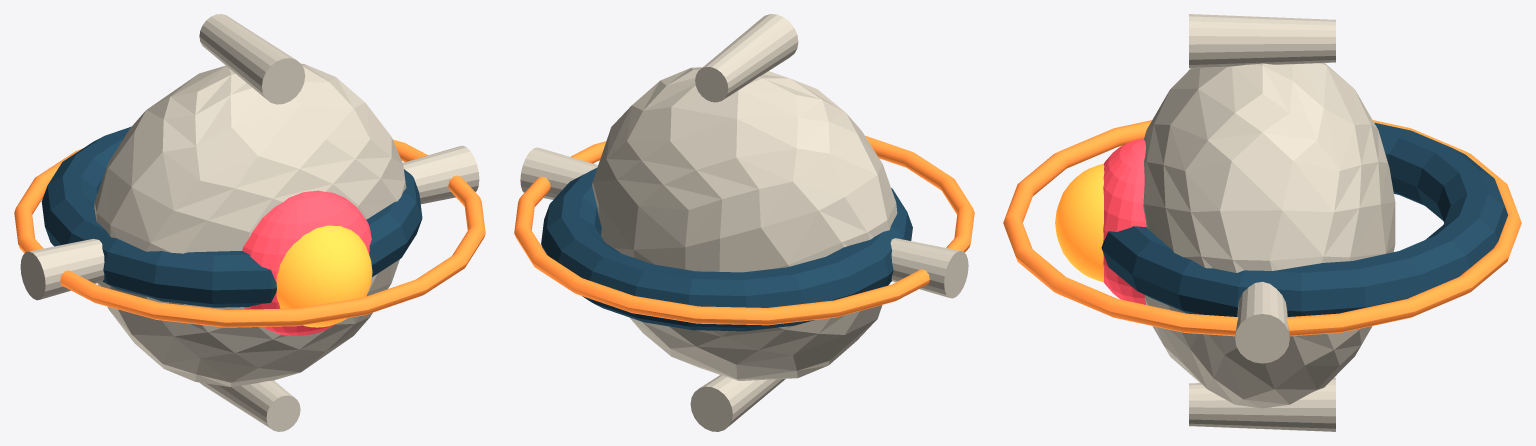
The model's file is enemy-foundry.glb.
3 views of the same model, side by side, from view 1: azimuth 30°, elevation 25°; view 2: azimuth 150°, elevation 25°; view 3: azimuth 270°, elevation 25° (orthographic). The views are drawn at different scales.
Visible parts, largest first — view 1: hull_static, accent_static, aim_ring, target_eye, hazard_static; view 2: hull_static, accent_static, aim_ring; view 3: hull_static, accent_static, aim_ring, target_eye, hazard_static.
Part boxes in pixels (<box>): hull_static: <box>20,14,479,431</box>; accent_static: <box>41,126,422,307</box>; aim_ring: <box>14,139,485,327</box>; target_eye: <box>276,225,372,327</box>; hazard_static: <box>242,190,371,335</box>; hull_static: <box>520,14,968,431</box>; accent_static: <box>541,167,912,331</box>; aim_ring: <box>514,135,974,325</box>; hull_static: <box>1143,14,1395,431</box>; accent_static: <box>1101,122,1507,316</box>; aim_ring: <box>1003,120,1521,336</box>; target_eye: <box>1055,163,1104,282</box>; hazard_static: <box>1103,139,1146,304</box>.
Size of the model in its own units: 560 by 466 by 530.
